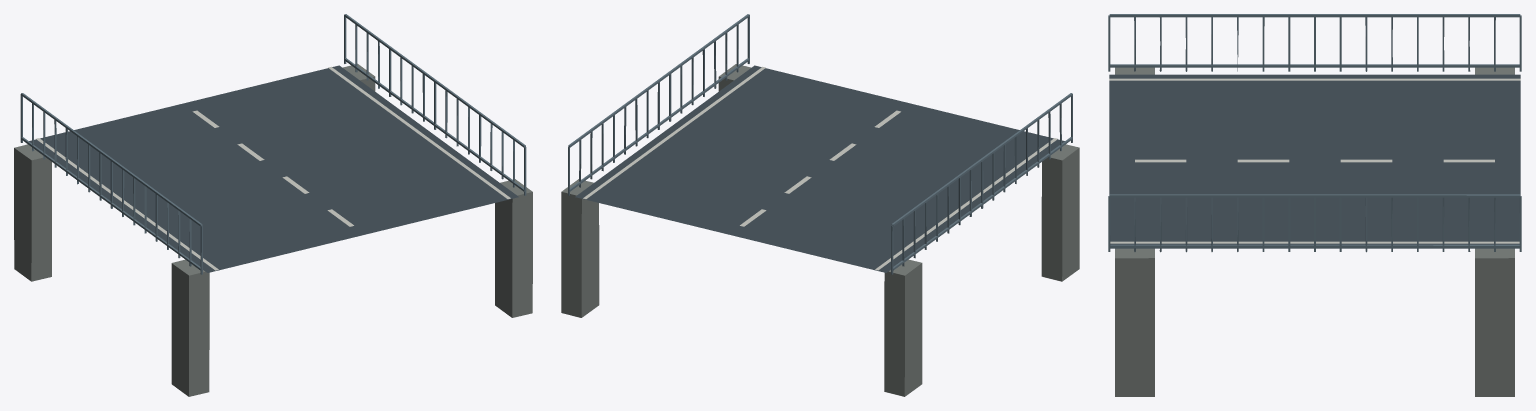
Rendered from landscape-road-bridge.lod2.glb.
3 renders of one model, left to right at view 1: azimuth 30°, elevation 25°; view 2: azimuth 150°, elevation 25°; view 3: azimuth 270°, elevation 25°, orthographic. The views are drawn at different scales.
Visible parts, largest first — view 1: landscape-road-bridge__body; view 2: landscape-road-bridge__body; view 3: landscape-road-bridge__body.
Part boxes in pixels (x1,y1,x2,y2): landscape-road-bridge__body: (14,14,532,396); landscape-road-bridge__body: (561,14,1079,396); landscape-road-bridge__body: (1108,14,1521,396).
Size of the model in its own units: 8.83 by 4.21 by 8.04.
